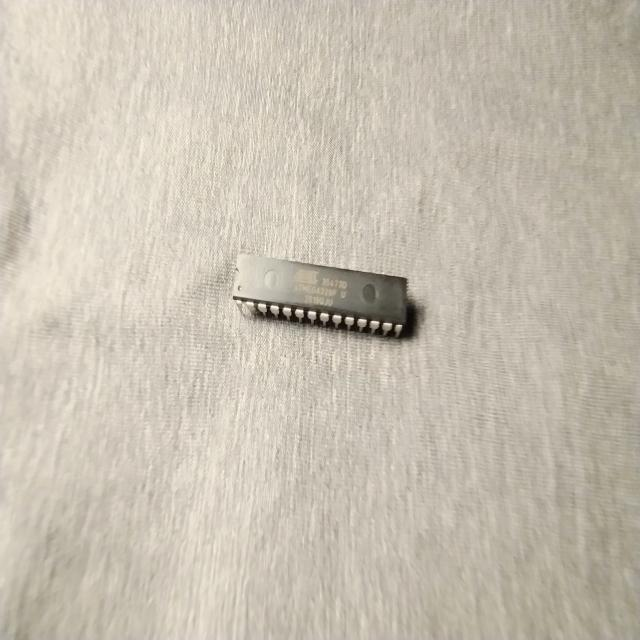atmega: (230, 251, 410, 341)
